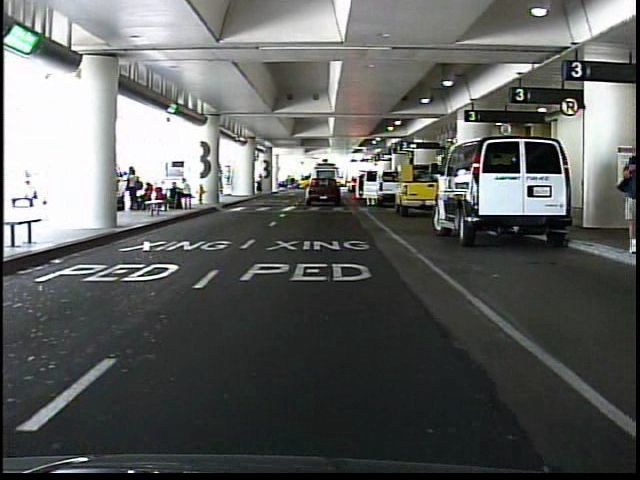person: (617, 132, 637, 255), (256, 172, 267, 197)
